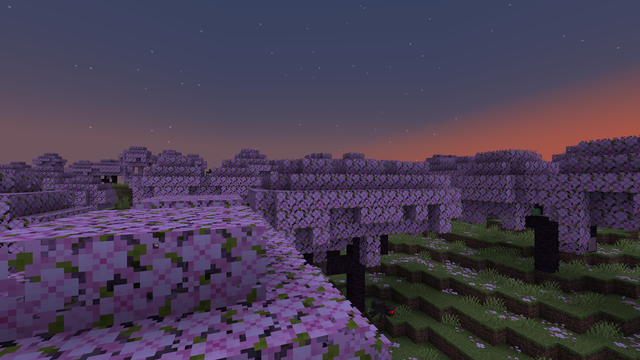araignees: (370, 297, 398, 322)
slimes: (532, 207, 540, 215)
